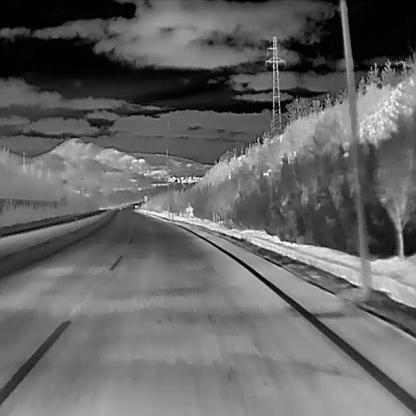car: (134, 204, 138, 207)
